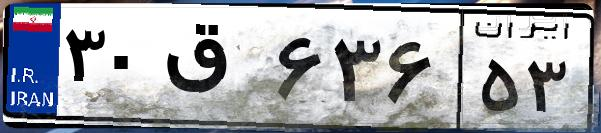0: (110, 28, 158, 98)
3: (330, 28, 385, 110), (57, 26, 110, 100), (525, 38, 570, 115)
5: (475, 38, 525, 113)
6: (270, 28, 330, 110), (385, 28, 445, 110)
ق: (158, 20, 270, 120)
